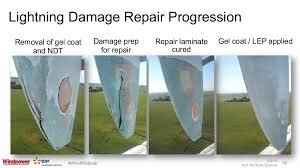faulty: (95, 66, 139, 140)
